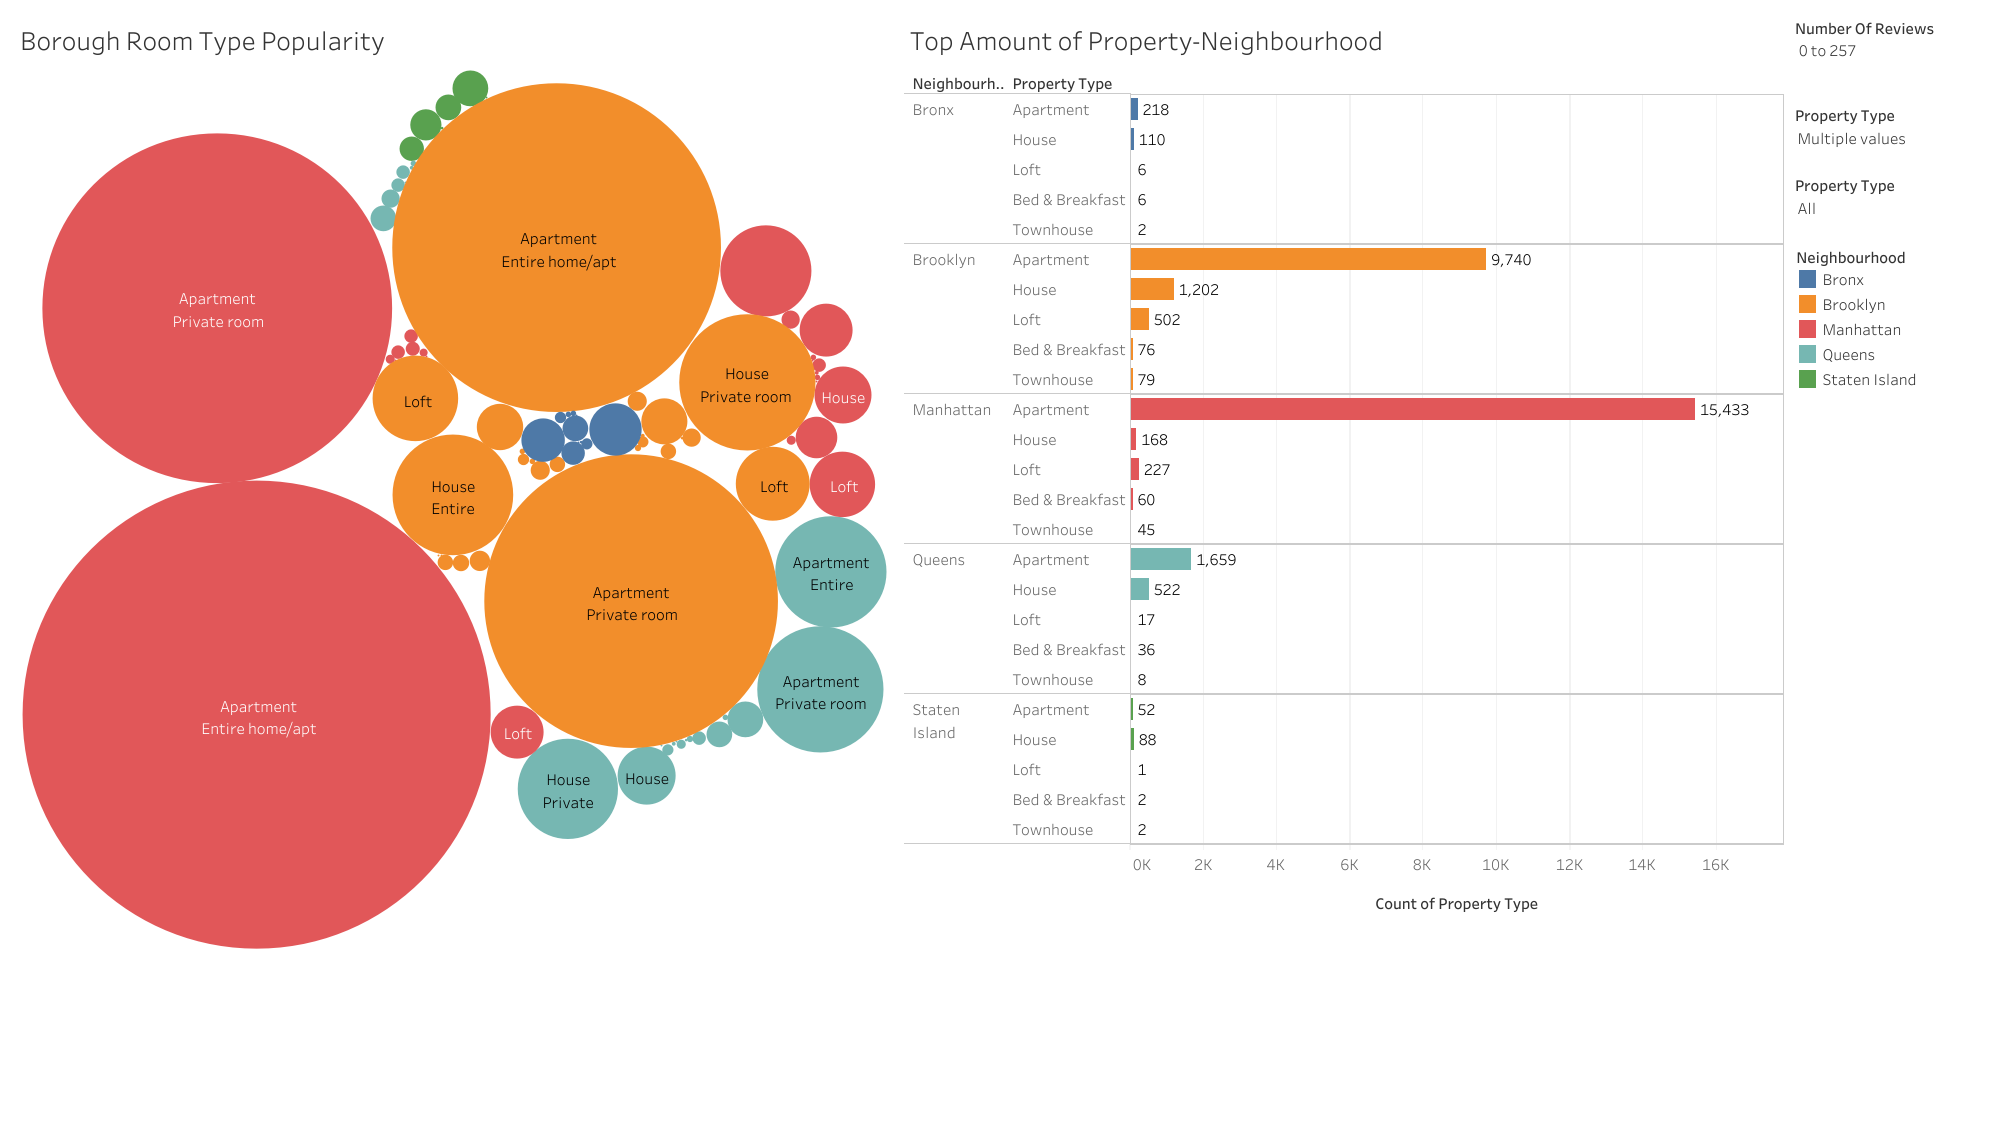

Layout of this report page (visuals, bound fields, positions):
{"tool":"tableau","page":{"name":"Popular Property Type","canvas":[1600,900],"ordinal":2},"visuals":[{"type":"worksheet","title":"Borough Room Type Popularity","mark":"Circle","box":[8,8,712,884]},{"type":"worksheet","title":"Top Amount of Property-Neighbourhood","mark":"Automatic","rows":["Neighbourhood","Property Type"],"cols":["Property Type"],"box":[720,8,712,884]},{"type":"filter","title":"Borough Room Type Popularity","param":"[federated.0j0w5ul0jr4dh91d4lxyd0nrqbqj].[none:Number Of Reviews:qk]","box":[1432,8,160,73]},{"type":"filter","title":"Borough Room Type Popularity","param":"[federated.0j0w5ul0jr4dh91d4lxyd0nrqbqj].[none:Property Type:nk]","box":[1432,81,160,61]},{"type":"filter","title":"Top Amount of Property-Neighbourhood","param":"[federated.0j0w5ul0jr4dh91d4lxyd0nrqbqj].[none:Property Type:nk]","box":[1432,142,160,153]},{"type":"legend","title":"Borough Room Type Popularity","param":"[federated.0j0w5ul0jr4dh91d4lxyd0nrqbqj].[none:Neighbourhood:nk]","box":[1432,295,160,135]}]}

Visuals, with their boxes in screenshot pixels (x1, y1, x2, y2), scaled from the page's 1600x900 canvas onto the 1999x1124 screenshot:
"Borough Room Type Popularity" worksheet (Circle marks): BBox(10, 10, 900, 1114)
"Top Amount of Property-Neighbourhood" worksheet: BBox(900, 10, 1789, 1114)
"Borough Room Type Popularity" filter: BBox(1789, 10, 1989, 101)
"Borough Room Type Popularity" filter: BBox(1789, 101, 1989, 177)
"Top Amount of Property-Neighbourhood" filter: BBox(1789, 177, 1989, 368)
"Borough Room Type Popularity" legend: BBox(1789, 368, 1989, 537)
